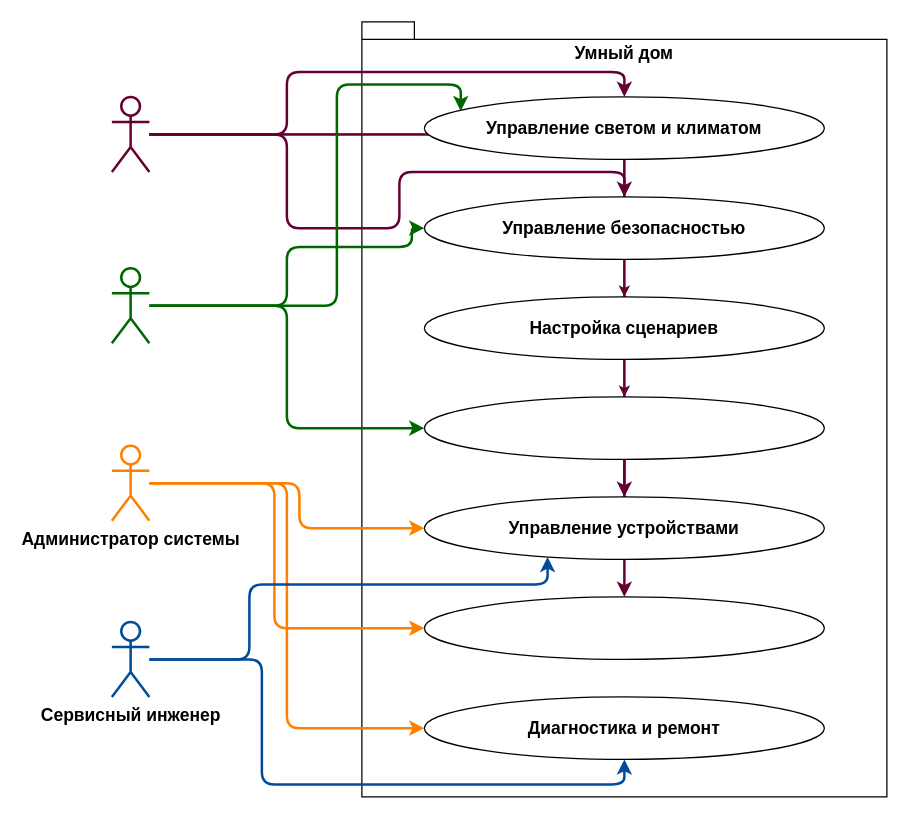
Some shapes in this 909 by 819 pixel diagram are drawn without their labels. The shapes that lost their labels are listed below. From the top down, each one's centre as x and y in pixels, then its label:
[130,133]: Владелец дома
[130,305]: Член семьи
[623,427]: Просмотр статистики
[623,627]: Управление пользователями
